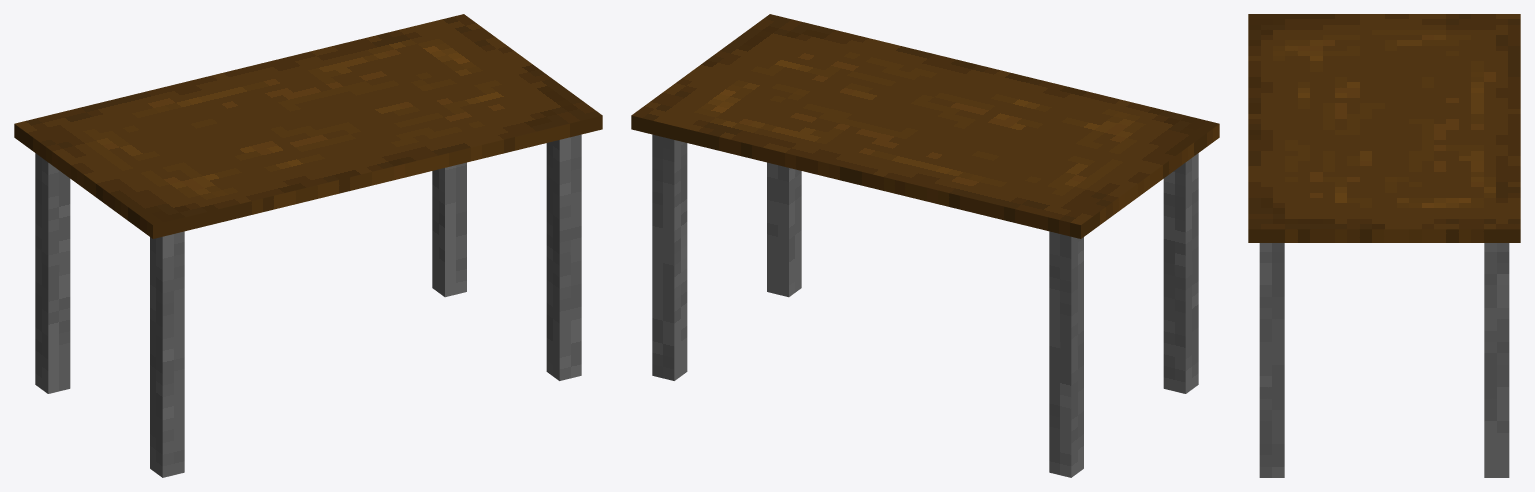
The model's file is Desk.gltf.
3 renders of one model, left to right at view 1: azimuth 30°, elevation 25°; view 2: azimuth 150°, elevation 25°; view 3: azimuth 270°, elevation 25°, orthographic.
Visible parts, largest first — view 1: Office Desk; view 2: Office Desk; view 3: Office Desk.
Boxes of the visible parts, x1=… form: Office Desk: x1=14, y1=14, x2=602, y2=477; Office Desk: x1=631, y1=14, x2=1219, y2=477; Office Desk: x1=1248, y1=14, x2=1520, y2=477.
Size of the model in its own units: 2.55 by 1.41 by 1.36.
Materials: 1 (1 with a texture image).
